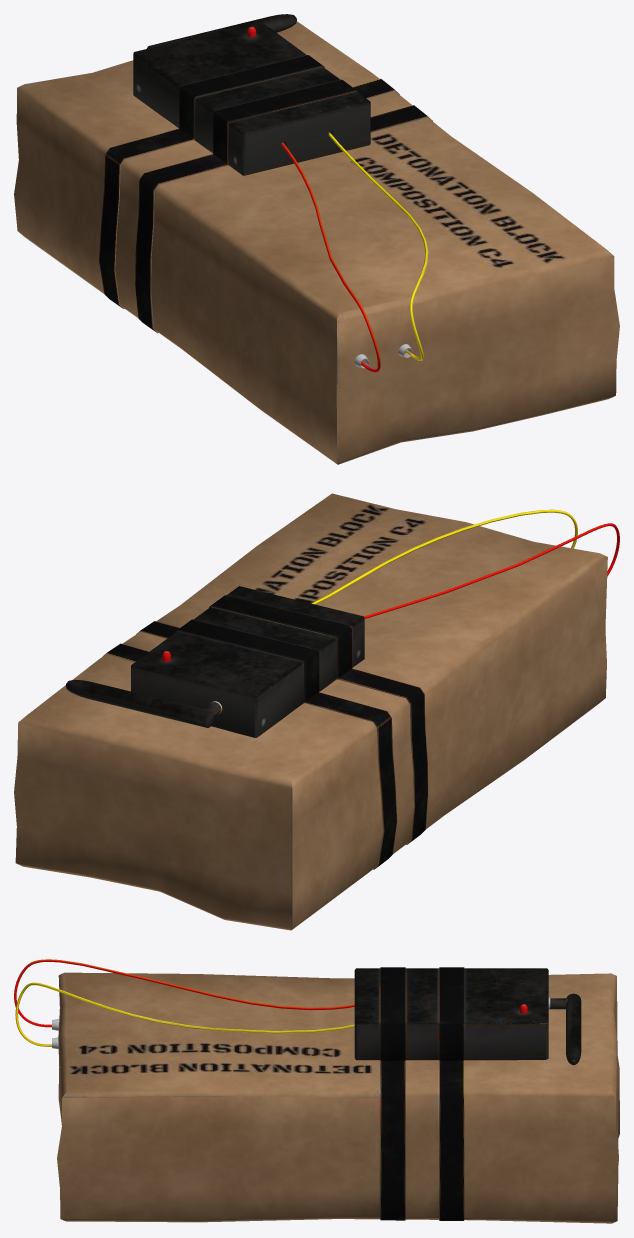
The model's file is bunker47-prop-c4.glb.
The picture shows the model from 3 angles, top to bottom: view 1: azimuth 30°, elevation 25°; view 2: azimuth 150°, elevation 25°; view 3: azimuth 270°, elevation 25°; orthographic projection. The views are drawn at different scales.
Visible parts, largest first — view 1: C4; view 2: C4; view 3: C4.
Boxes of the visible parts, x1,y1,x2,y2 form: C4: [14, 14, 619, 464]; C4: [14, 493, 619, 930]; C4: [14, 959, 619, 1223].
Size of the model in its own units: 9.67 by 6.63 by 20.11.
Materials: 1 (1 with a texture image).
